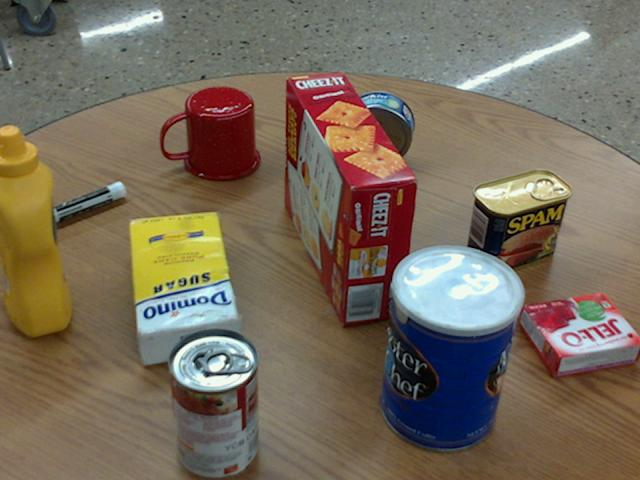cracker_box: (286, 73, 417, 325)
gelatin_box: (521, 292, 639, 375)
large_marker: (20, 181, 125, 232)
master_chef_can: (381, 245, 523, 451)
mug: (161, 87, 259, 180)
mustard_bottle: (0, 126, 70, 334)
potted_meat_can: (467, 169, 572, 275)
sugar_box: (129, 211, 238, 364)
tomato_soup_can: (165, 328, 256, 478)
tuna_fish_can: (341, 91, 412, 165)
